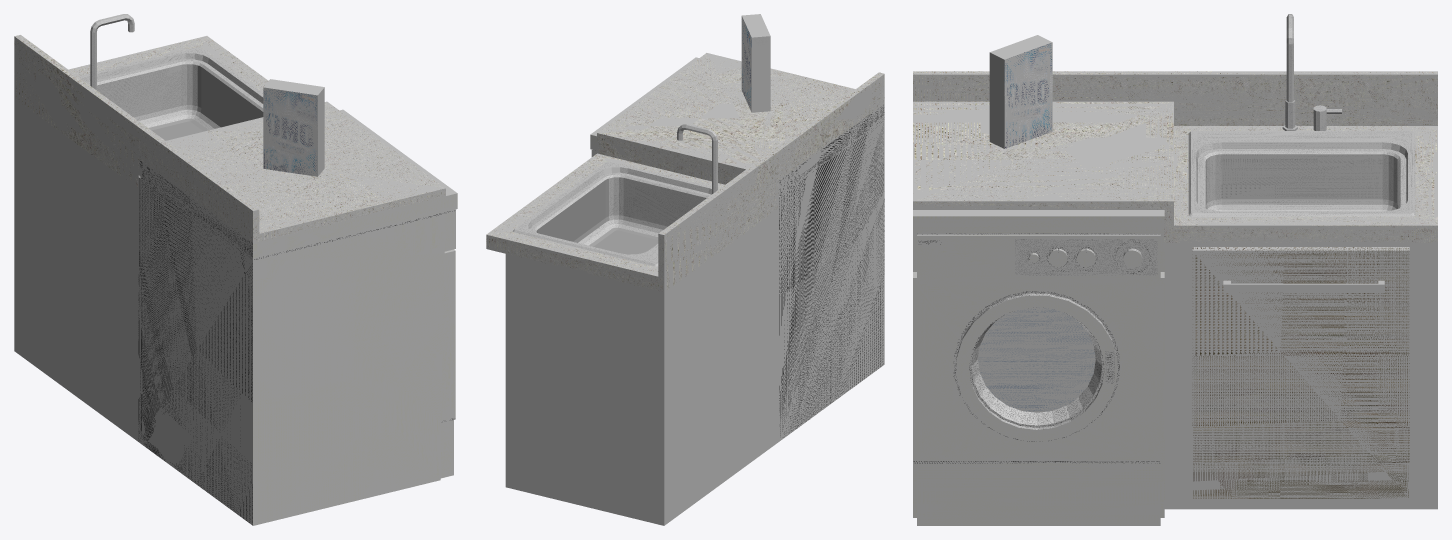
The picture shows the model from 3 angles, left to right: view 1: azimuth 30°, elevation 25°; view 2: azimuth 150°, elevation 25°; view 3: azimuth 270°, elevation 25°; orthographic projection. The views are drawn at different scales.
Parts seen in each view (by area): view 1: mesh42.002_mesh42-geometry, mesh47.001_mesh47-geometry, mesh10.002_mesh10-geometry, mesh26.002_mesh26-geometry, mesh25.002_mesh25-geometry; view 2: mesh47.001_mesh47-geometry, mesh42.002_mesh42-geometry, mesh10.002_mesh10-geometry, mesh26.002_mesh26-geometry, mesh25.002_mesh25-geometry; view 3: mesh47.001_mesh47-geometry, mesh42.002_mesh42-geometry, mesh10.002_mesh10-geometry, mesh26.002_mesh26-geometry, mesh17.002_mesh17-geometry, mesh25.002_mesh25-geometry.
Part boxes in pixels (<box>): mesh42.002_mesh42-geometry: <box>138,109,457,525</box>; mesh47.001_mesh47-geometry: <box>14,35,445,441</box>; mesh10.002_mesh10-geometry: <box>78,47,263,140</box>; mesh26.002_mesh26-geometry: <box>263,79,324,176</box>; mesh25.002_mesh25-geometry: <box>90,14,134,90</box>; mesh47.001_mesh47-geometry: <box>486,53,884,525</box>; mesh42.002_mesh42-geometry: <box>590,57,884,441</box>; mesh10.002_mesh10-geometry: <box>512,161,719,266</box>; mesh26.002_mesh26-geometry: <box>741,14,770,112</box>; mesh25.002_mesh25-geometry: <box>677,124,717,193</box>; mesh47.001_mesh47-geometry: <box>913,71,1437,509</box>; mesh42.002_mesh42-geometry: <box>913,210,1164,525</box>; mesh10.002_mesh10-geometry: <box>1188,131,1415,216</box>; mesh26.002_mesh26-geometry: <box>989,35,1052,148</box>; mesh17.002_mesh17-geometry: <box>1223,280,1384,292</box>; mesh25.002_mesh25-geometry: <box>1282,14,1297,130</box>.
Size of the model in its own units: 0.3537 by 0.6178 by 0.7023.
14 materials, 3 textured.
